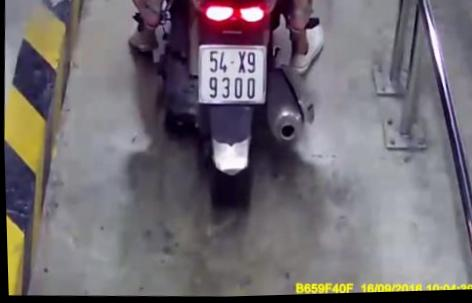LP: (198, 44, 269, 107)
